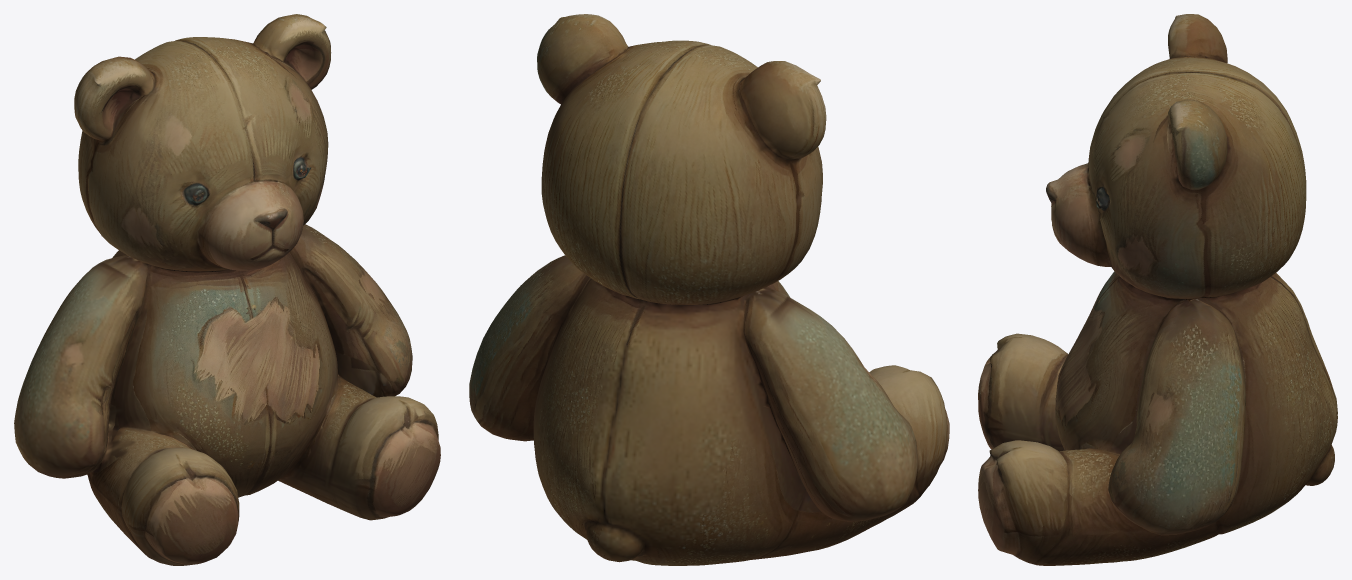
File: Prop_TeddyBear.fbx
3 renders of one model, left to right at view 1: azimuth 30°, elevation 25°; view 2: azimuth 150°, elevation 25°; view 3: azimuth 270°, elevation 25°, orthographic. The views are drawn at different scales.
Parts seen in each view (by area): view 1: texture_mapping; view 2: texture_mapping; view 3: texture_mapping.
Boxes of the visible parts, x1,y1,x2,y2 form: texture_mapping: (14,14,440,565); texture_mapping: (469,14,949,565); texture_mapping: (978,14,1337,565).
Bounding box in the file's own units: 0.8948 × 0.7237 × 1.
Materials: 1 (1 with a texture image).
